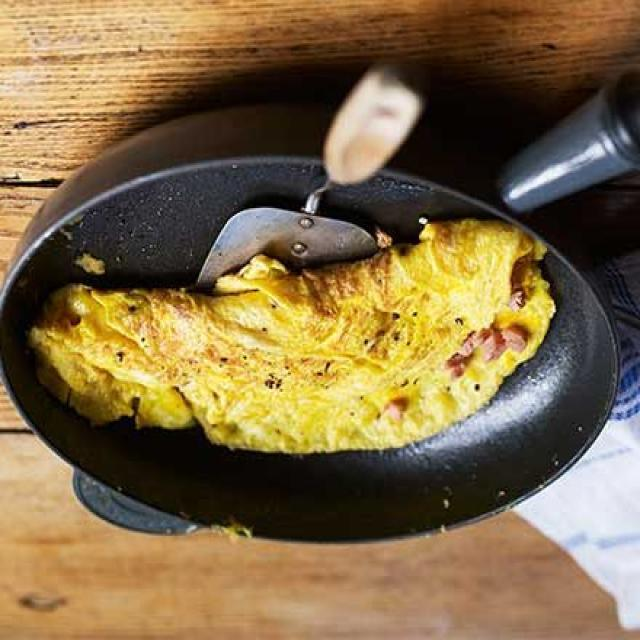telur_ayam_dadar: (28, 218, 558, 459)
